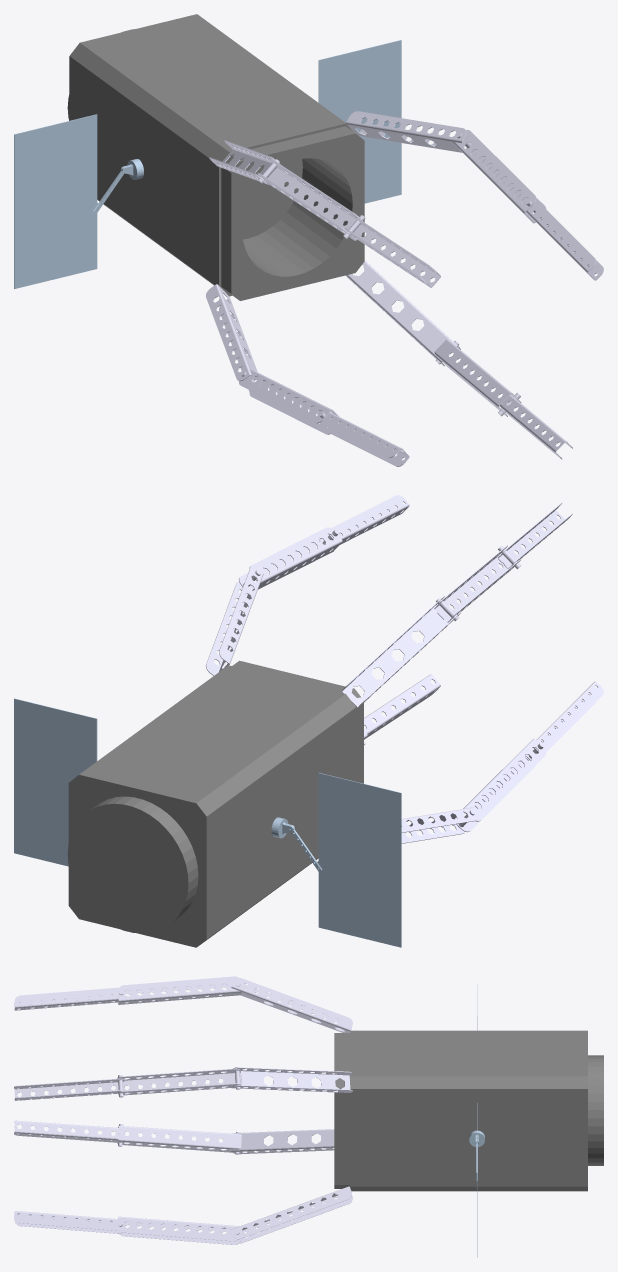
Rendered from ClearSpace-1.gltf.
3 views of the same model, one above another, from view 1: azimuth 30°, elevation 25°; view 2: azimuth 150°, elevation 25°; view 3: azimuth 270°, elevation 25° (orthographic). The views are drawn at different scales.
Visible parts, largest first — view 1: node4, node5, node6, node1, node2, node3, node0; view 2: node4, node5, node6, node1, node0, node2, node3; view 3: node4, node3, node0, node1, node2, node6.
Part boxes in pixels (box(x1,y1,x2,y2)): node4: box(67, 14, 364, 300); node5: box(14, 114, 143, 288); node6: box(318, 40, 401, 203); node1: box(346, 111, 603, 280); node2: box(206, 284, 409, 466); node3: box(345, 260, 572, 459); node0: box(209, 140, 440, 287); node4: box(67, 660, 363, 947); node5: box(271, 773, 401, 947); node6: box(14, 698, 97, 866); node1: box(206, 495, 409, 675); node0: box(342, 502, 572, 707); node2: box(401, 681, 603, 843); node3: box(364, 674, 440, 744); node4: box(334, 1030, 603, 1191); node3: box(14, 1186, 352, 1244); node0: box(14, 976, 352, 1032); node1: box(14, 1067, 352, 1100); node2: box(14, 1120, 334, 1154); node6: box(469, 1103, 484, 1257).
Size of the model in its own units: 1.12 by 0.697 by 1.86.
